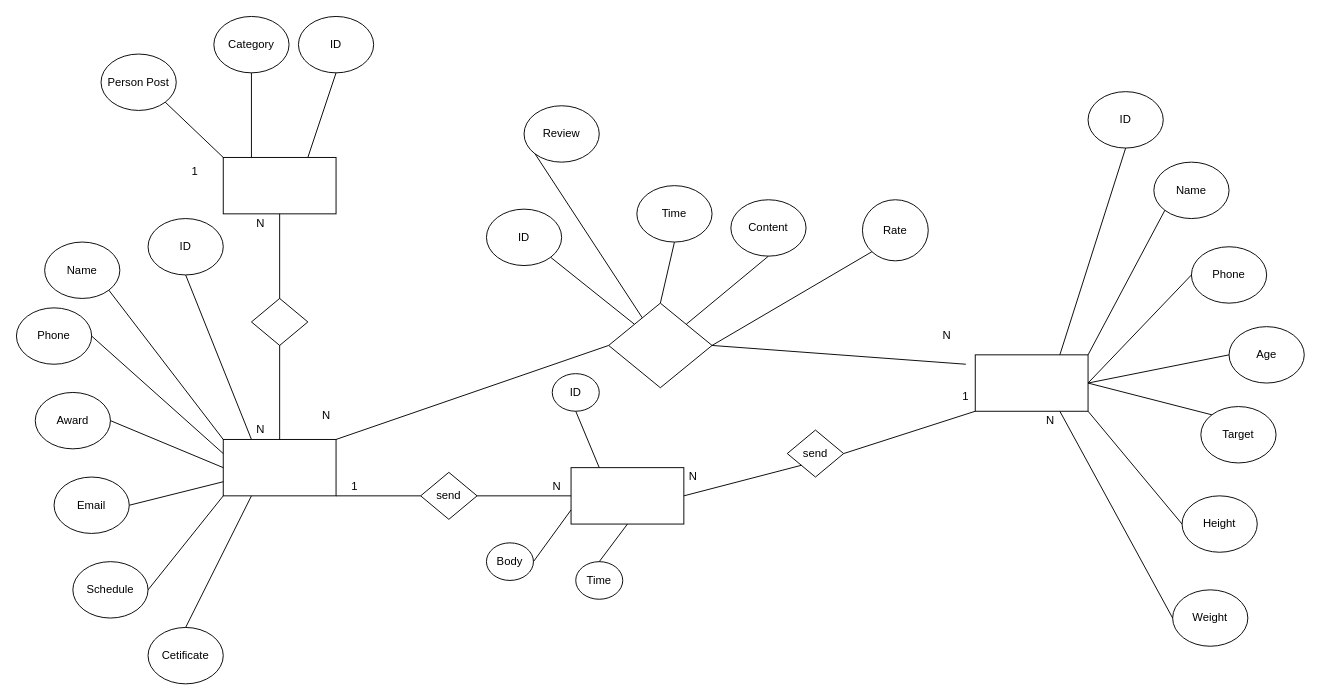
Image size: 1321x700. Some labels were removed from this diagram. The centre of each missing label's shape, as x and y in pixels:
"Booking" belongs at point 660,345.
"Customer" belongs at point 1031,382.
"Message" belongs at point 627,495.
"Photographer" belongs at point 279,467.
"Provide" belongs at point 279,321.
"Service" belongs at point 279,185.
